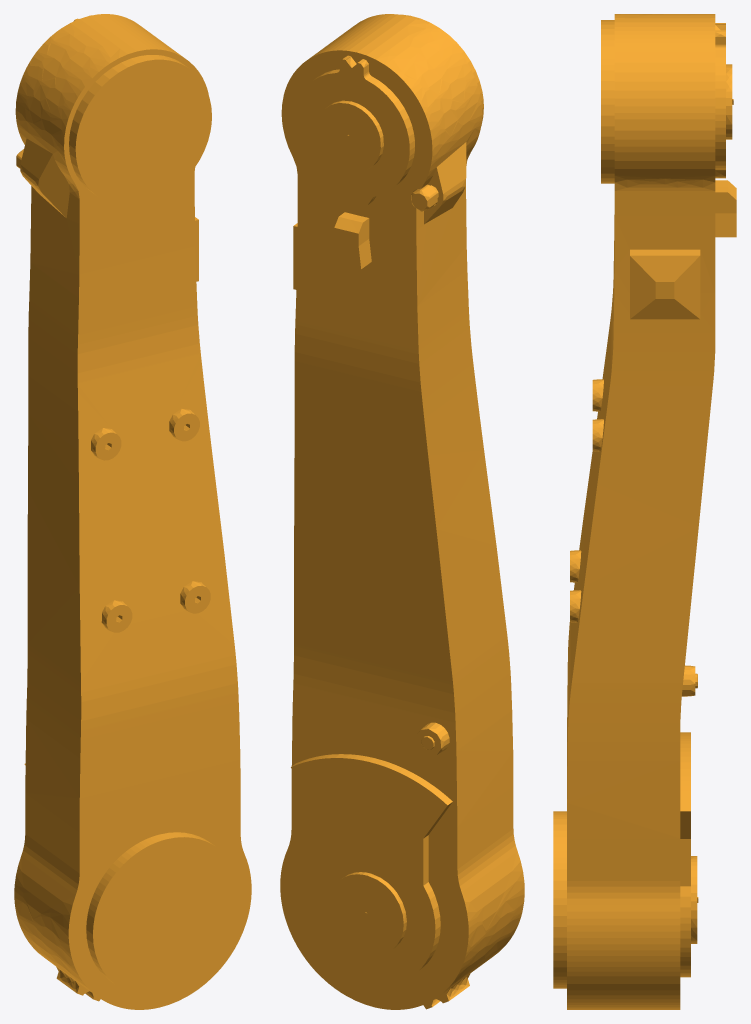
Rendered from ABBIRB1660IDLink2.dae.
3 views of the same model, side by side, from view 1: azimuth 30°, elevation 25°; view 2: azimuth 150°, elevation 25°; view 3: azimuth 270°, elevation 25° (orthographic). The views are drawn at different scales.
Visible parts, largest first — view 1: IRB1660IDLink3; view 2: IRB1660IDLink3; view 3: IRB1660IDLink3.
Boxes of the visible parts, bbox=[...] form: IRB1660IDLink3: bbox=[14, 14, 251, 1009]; IRB1660IDLink3: bbox=[280, 14, 524, 1009]; IRB1660IDLink3: bbox=[553, 14, 736, 1009].
Bounding box in the file's own units: 0.1748 × 0.146 × 0.8583.
